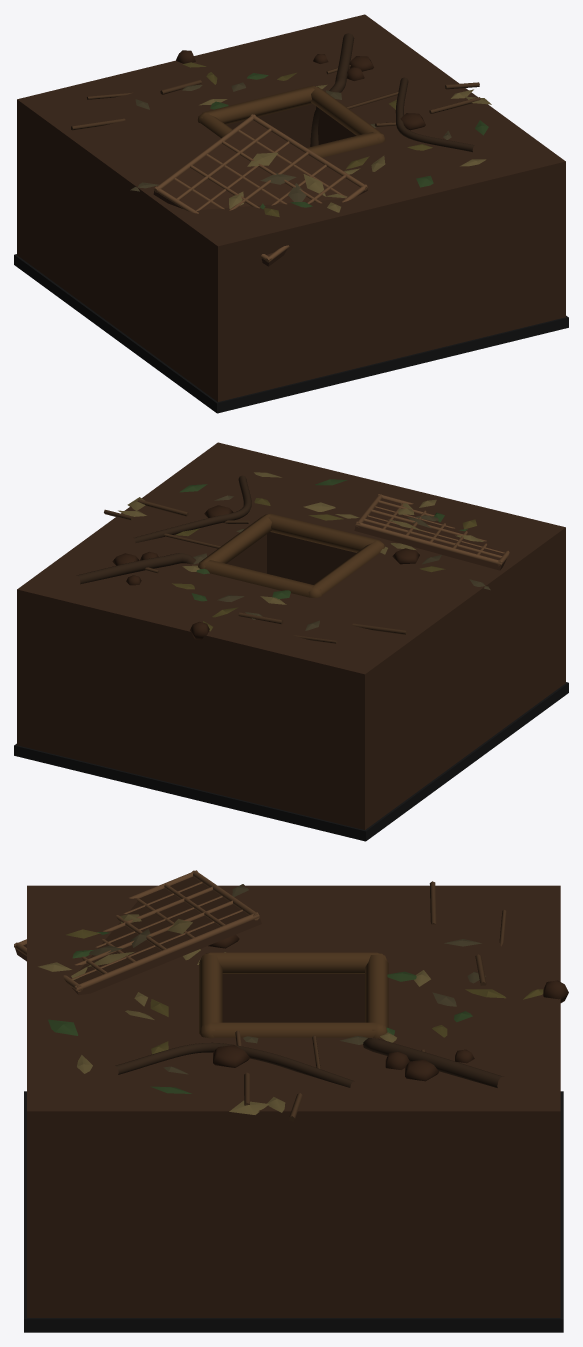
The model's file is tunnel-entrance.glb.
3 views of the same model, one above another, from view 1: azimuth 30°, elevation 25°; view 2: azimuth 150°, elevation 25°; view 3: azimuth 270°, elevation 25° (orthographic). The views are drawn at different scales.
Visible parts, largest first — view 1: Mesh_TunnelGround, Mesh_TrapdoorEarth, Mesh_BasePlate, Mesh_RimBack, Mesh_RimLeft, Mesh_TreeRoot2, Mesh_TreeRoot1, Mesh_RimFront, Mesh_FrameStickL, Mesh_FrameStickB; view 2: Mesh_TunnelGround, Mesh_BasePlate, Mesh_TrapdoorEarth, Mesh_RimFront, Mesh_RimBack, Mesh_TreeRoot1, Mesh_RimLeft, Mesh_TreeRoot2, Mesh_RimRight, Mesh_FrameStickB; view 3: Mesh_TunnelGround, Mesh_BasePlate, Mesh_TrapdoorEarth, Mesh_RimRight, Mesh_RimLeft, Mesh_TreeRoot2, Mesh_TreeRoot1, Mesh_RimFront, Mesh_RimBack, Mesh_FrameStickL, Mesh_DirtClump_3, Mesh_DirtClump_1.
Boxes of the visible parts, x1=… form: Mesh_TunnelGround: x1=17, y1=14, x2=565, y2=401; Mesh_TrapdoorEarth: x1=153, y1=120, x2=367, y2=266; Mesh_BasePlate: x1=14, y1=254, x2=568, y2=413; Mesh_RimBack: x1=197, y1=85, x2=320, y2=124; Mesh_RimLeft: x1=311, y1=86, x2=384, y2=142; Mesh_TreeRoot2: x1=395, y1=77, x2=474, y2=152; Mesh_TreeRoot1: x1=310, y1=33, x2=354, y2=146; Mesh_RimFront: x1=307, y1=132, x2=385, y2=157; Mesh_FrameStickL: x1=250, y1=114, x2=367, y2=190; Mesh_FrameStickB: x1=154, y1=114, x2=255, y2=192; Mesh_TunnelGround: x1=17, y1=442, x2=565, y2=829; Mesh_BasePlate: x1=14, y1=682, x2=568, y2=841; Mesh_TrapdoorEarth: x1=354, y1=498, x2=506, y2=570; Mesh_RimFront: x1=262, y1=513, x2=384, y2=552; Mesh_RimBack: x1=198, y1=560, x2=322, y2=597; Mesh_TreeRoot1: x1=76, y1=553, x2=196, y2=584; Mesh_RimLeft: x1=198, y1=514, x2=271, y2=568; Mesh_TreeRoot2: x1=134, y1=475, x2=251, y2=542; Mesh_RimRight: x1=308, y1=540, x2=384, y2=597; Mesh_FrameStickB: x1=355, y1=521, x2=502, y2=565; Mesh_TunnelGround: x1=27, y1=885, x2=560, y2=1317; Mesh_BasePlate: x1=24, y1=1091, x2=563, y2=1332; Mesh_TrapdoorEarth: x1=15, y1=876, x2=261, y2=994; Mesh_RimRight: x1=199, y1=952, x2=387, y2=973; Mesh_RimLeft: x1=199, y1=1022, x2=387, y2=1037; Mesh_TreeRoot2: x1=115, y1=1042, x2=354, y2=1087; Mesh_TreeRoot1: x1=363, y1=1038, x2=503, y2=1087; Mesh_RimFront: x1=199, y1=953, x2=222, y2=1038; Mesh_RimBack: x1=365, y1=953, x2=388, y2=1038; Mesh_FrameStickL: x1=74, y1=912, x2=259, y2=990; Mesh_DirtClump_3: x1=213, y1=1045, x2=249, y2=1067; Mesh_DirtClump_1: x1=405, y1=1059, x2=438, y2=1081.
Bounding box in the file's own units: 1.9 × 1.01 × 1.87.
